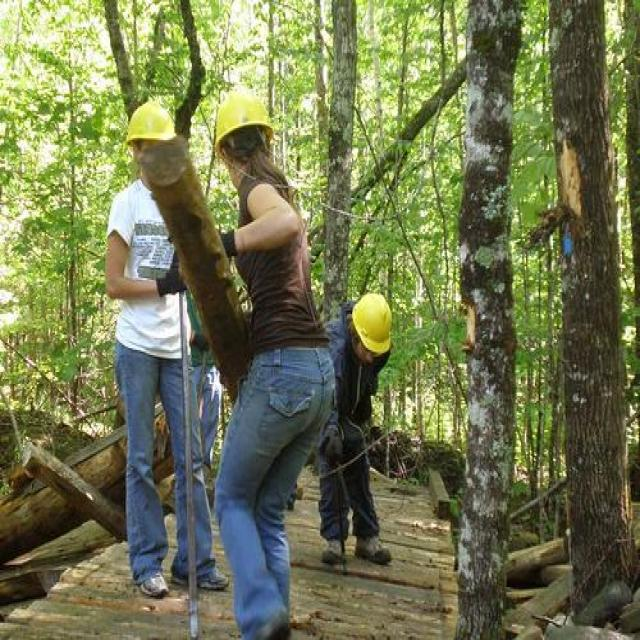Safety-Helmet: (209, 84, 279, 148), (346, 285, 400, 360), (119, 92, 183, 155)
